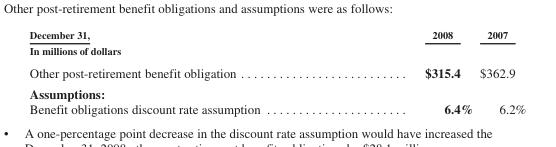table: (28, 28, 525, 115)
table column: (28, 28, 341, 115), (341, 28, 475, 115), (475, 28, 525, 115)
table column header: (28, 28, 525, 42)
table projected row header: (28, 42, 525, 60), (28, 82, 525, 100)
table row: (28, 60, 525, 82), (28, 42, 525, 60), (28, 82, 525, 100), (28, 100, 525, 115), (28, 28, 525, 42)
